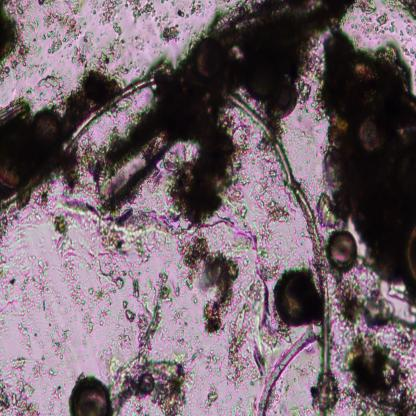Background material: (321, 24, 416, 304), (152, 83, 258, 224), (179, 0, 360, 75), (0, 74, 110, 188), (332, 275, 416, 415), (69, 201, 185, 257), (177, 232, 238, 330), (243, 41, 319, 119), (109, 351, 196, 414), (122, 271, 174, 348), (38, 189, 78, 269), (0, 262, 37, 348), (0, 0, 38, 79), (37, 258, 67, 357), (69, 25, 124, 78), (66, 271, 110, 332), (253, 197, 290, 267), (39, 1, 85, 53), (0, 359, 42, 415), (228, 300, 254, 382), (124, 1, 164, 29), (360, 1, 388, 38), (36, 75, 66, 108), (44, 364, 64, 408), (201, 348, 225, 382), (387, 1, 416, 29), (124, 34, 144, 71), (100, 0, 124, 29), (201, 388, 220, 415), (159, 26, 181, 46), (189, 1, 204, 15), (176, 8, 186, 18)
Diatom: (95, 130, 169, 210), (274, 269, 318, 327), (68, 374, 112, 415), (356, 106, 388, 155), (328, 228, 360, 272), (401, 223, 416, 284)
Microfibre: (224, 94, 328, 415), (0, 76, 156, 208), (256, 330, 315, 415)
